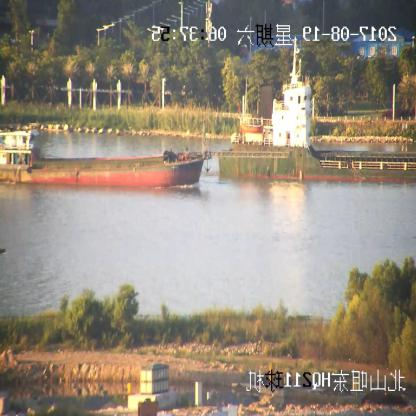Bulk Carrier: (217, 60, 416, 179), (1, 123, 213, 191)
